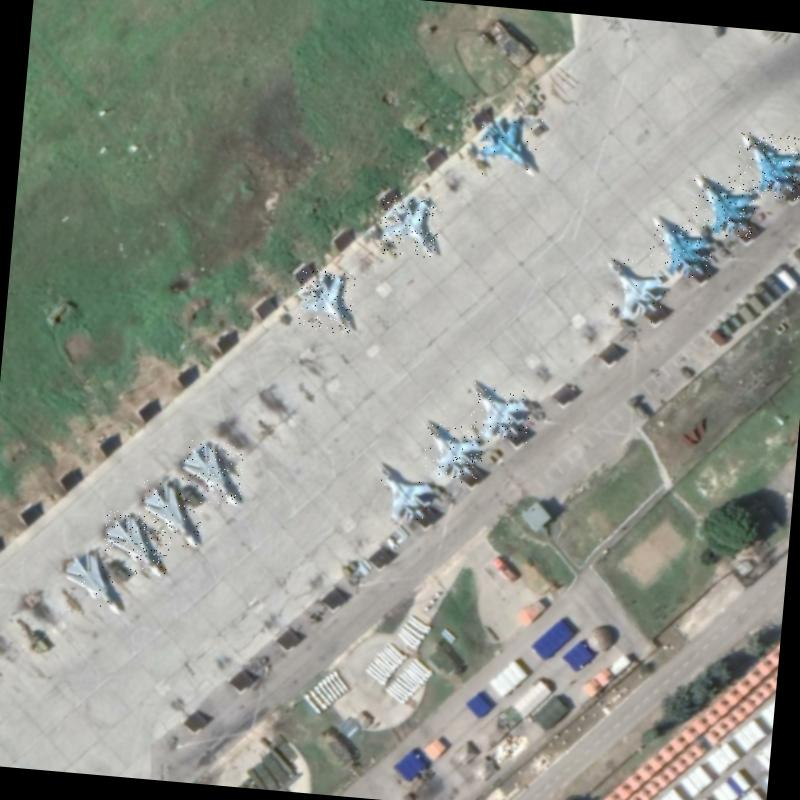A1: (602, 258, 668, 324), (378, 190, 442, 258), (468, 382, 532, 446), (422, 422, 485, 486), (297, 268, 357, 334), (376, 464, 437, 528)
A19: (476, 111, 544, 179), (648, 213, 717, 280), (688, 174, 757, 240), (735, 132, 800, 201)
A20: (102, 510, 172, 579), (138, 479, 206, 549), (60, 548, 127, 616), (180, 440, 246, 508)
